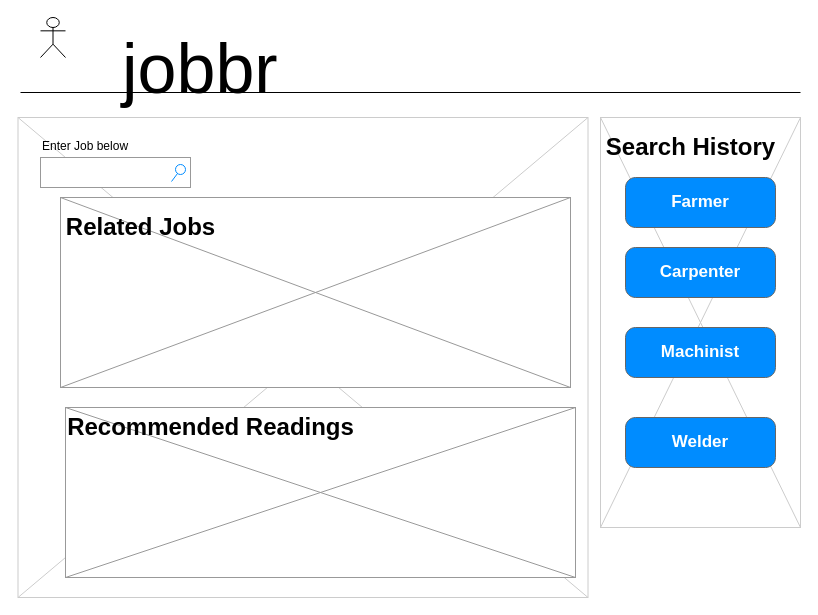
This 818x615 diagram has some shape labels left out. The shapes that lost their labels are listed below. From the top down, each one's box as (x1, y1, x2, y2) in pixels, then its label:
(40, 16, 66, 58): Actor
(40, 156, 190, 188): Search
